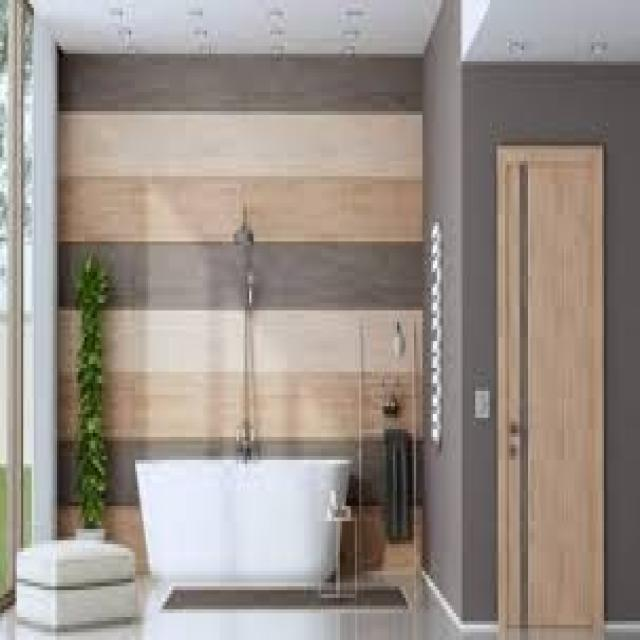door: (494, 142, 606, 640)
